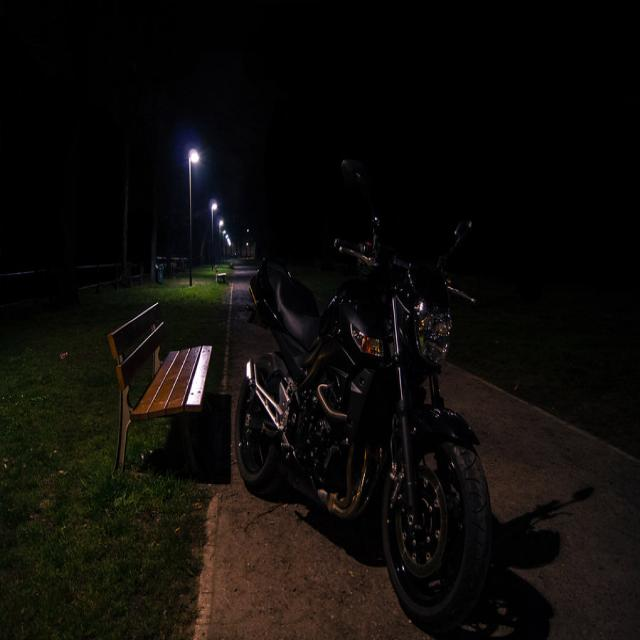Motorbike: (221, 210, 524, 624)
